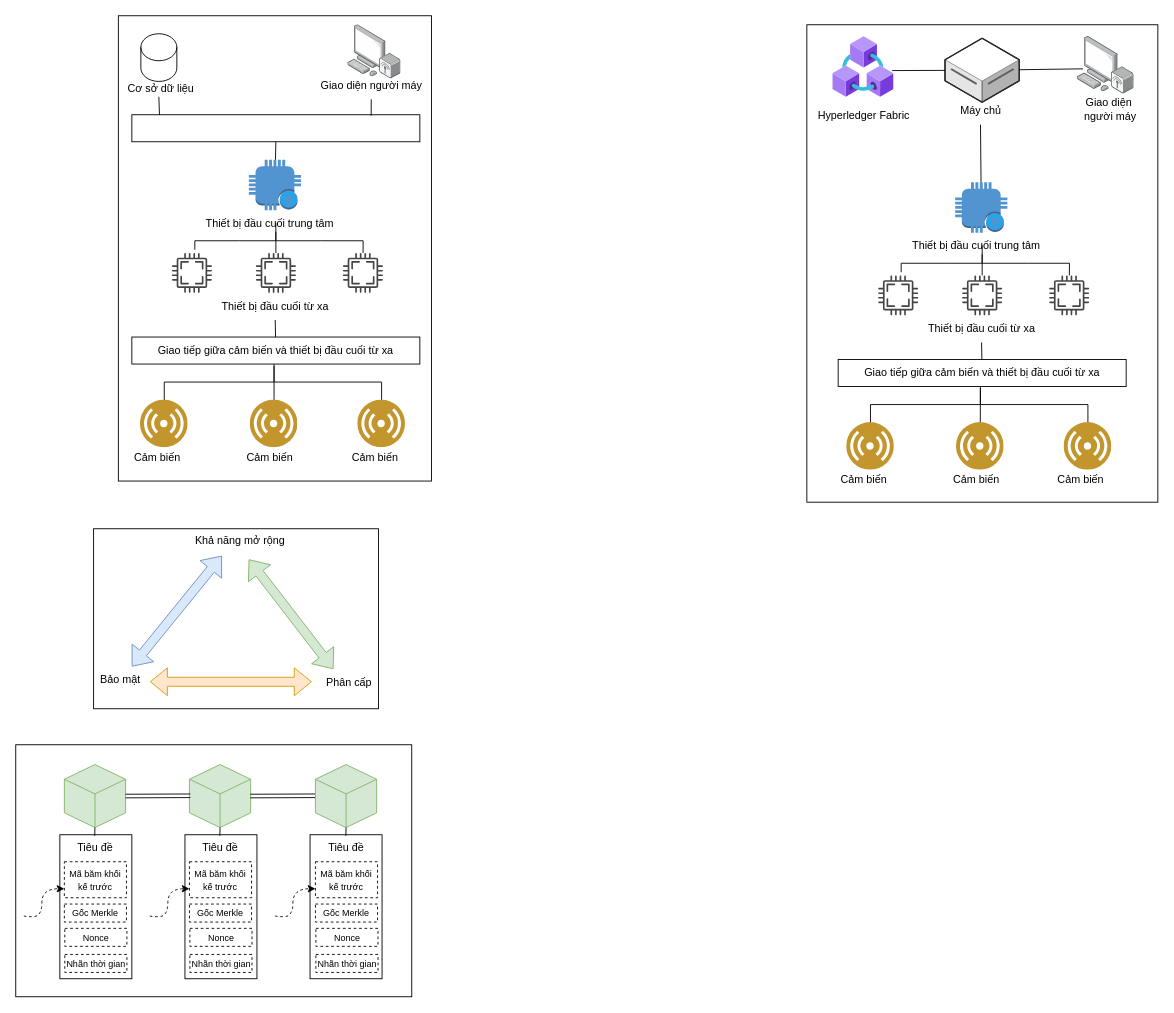
The diagram is 1174 pixels wide and 1013 high, and some of its shapes have lost their labels. The centre of each missing label's shape, as x and y in pixels:
Khối n: the point at 220,796
Khối n+1: the point at 346,796
Khối n-1: the point at 94,796
Liên kết giao tiếp: the point at 275,128
